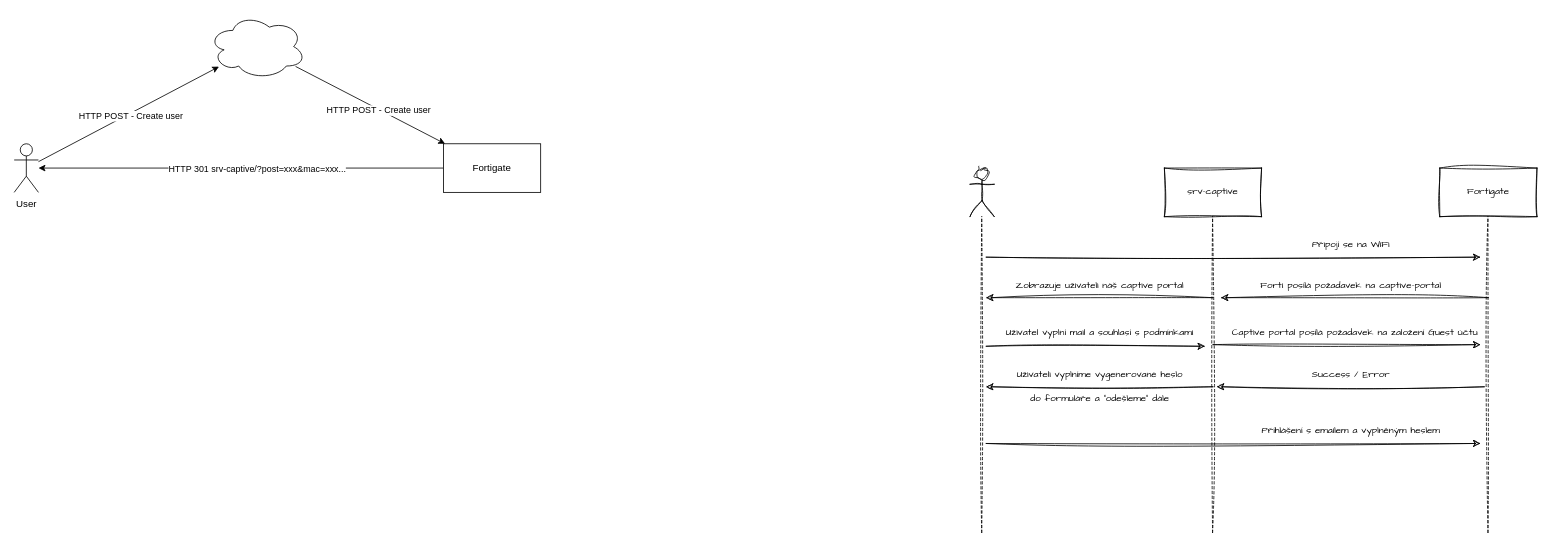
This 1551x548 diagram has some shape labels left out. The centre of each missing label's shape, as x and y in pixels:
"Captive portal" goes at pixel 257 46.
"Uživatel" goes at pixel 981 192.
